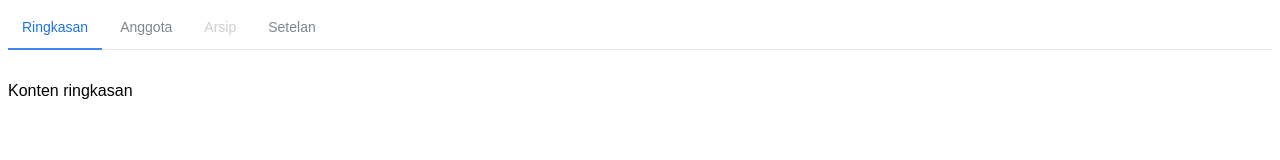
Scenario: Tabs › selects on click and shows the matching panel
The image size is (1280, 160).
Click the tab "Anggota" at [146, 29], box [106, 8, 186, 50]
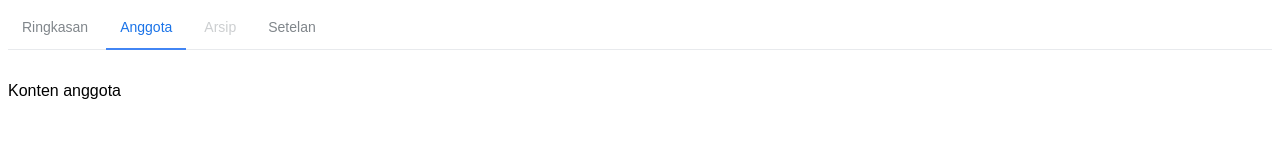
Expected: the text "Konten anggota" is shown, [8, 82, 121, 99]
Expected: the text "Konten ringkasan" is gone
